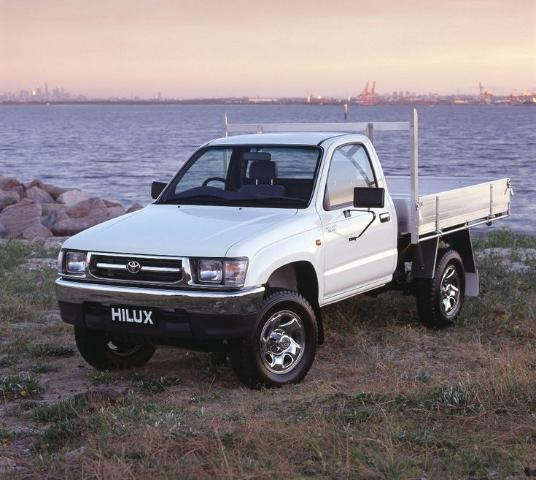pickup-truck: (55, 108, 516, 388)
